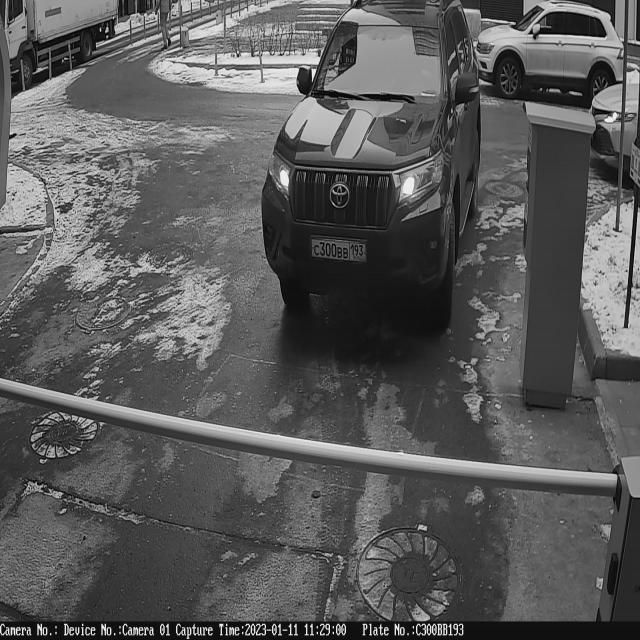car-plate-numbers: (311, 237, 369, 268)
